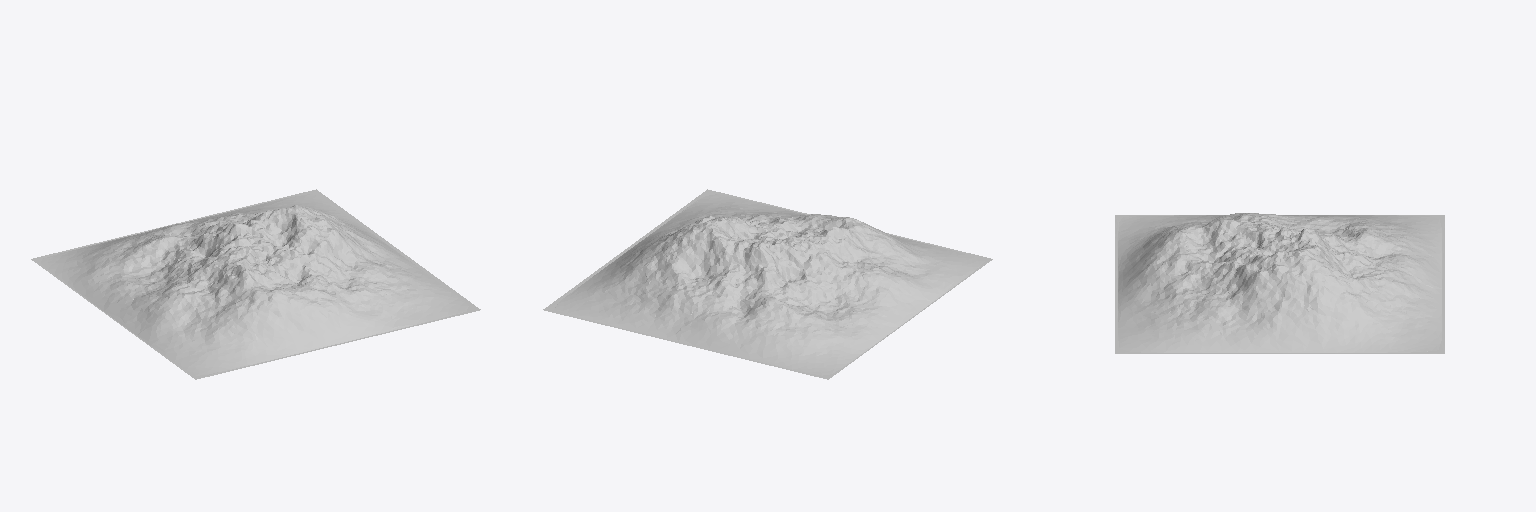
File: MountainTerrain6k.obj
The picture shows the model from 3 angles: view 1: azimuth 30°, elevation 25°; view 2: azimuth 150°, elevation 25°; view 3: azimuth 270°, elevation 25°; orthographic projection.
Parts seen in each view (by area): view 1: MountainTerrain; view 2: MountainTerrain; view 3: MountainTerrain.
Part boxes in pixels (bbox=[...]): MountainTerrain: bbox=[31, 189, 480, 379]; MountainTerrain: bbox=[543, 189, 992, 379]; MountainTerrain: bbox=[1115, 213, 1444, 353].
Size of the model in its own units: 200 by 38.27 by 200.